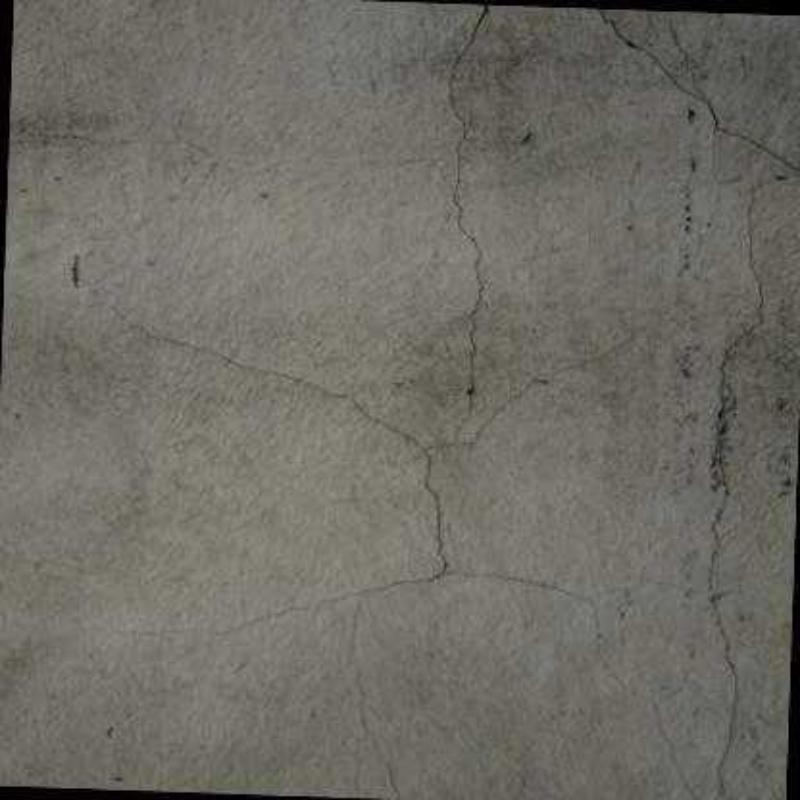pothole: (112, 306, 594, 635), (701, 184, 779, 798), (588, 6, 798, 183), (437, 1, 505, 435), (427, 337, 633, 450), (594, 602, 700, 798), (350, 606, 369, 738), (388, 765, 400, 798)
